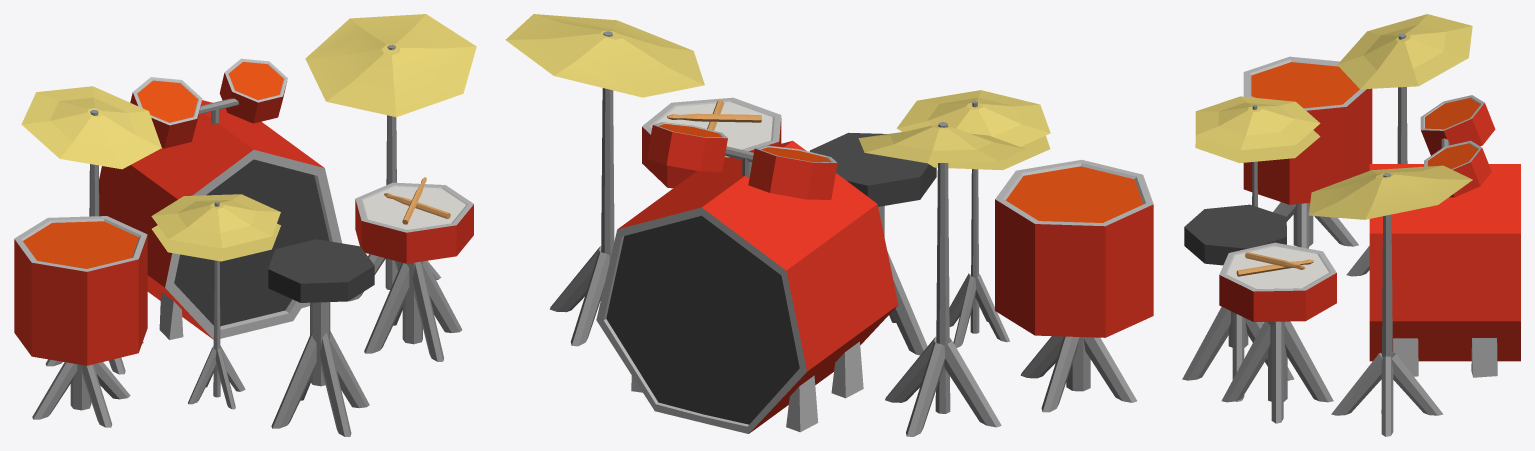
Rendered from drums.gltf.
3 views of the same model, side by side, from view 1: azimuth 30°, elevation 25°; view 2: azimuth 150°, elevation 25°; view 3: azimuth 270°, elevation 25° (orthographic). The views are drawn at different scales.
Parts seen in each view (by area): view 1: Cylinder, Cylinder.001, Cylinder.012, Cylinder.009, Cylinder.004, Cylinder.017, Cylinder.014, Cylinder.016, Cylinder.008, Cylinder.002, Cylinder.003, Cylinder.007 (+4 smaller); view 2: Cylinder, Cylinder.001, Cylinder.012, Cylinder.010, Cylinder.014, Cylinder.017, Cylinder.011, Cylinder.004, Cylinder.007, Cylinder.009, Cylinder.002, Cylinder.003 (+4 smaller); view 3: Cylinder, Cylinder.001, Cylinder.004, Cylinder.009, Cylinder.012, Cylinder.014, Cylinder.011, Cylinder.008, Cylinder.017, Cylinder.002, Cylinder.016, Cylinder.003 (+5 smaller).
Part boxes in pixels (x1,y1,x2,y2): Cylinder: (99,100,341,339); Cylinder.001: (14,216,147,365); Cylinder.012: (305,14,476,117); Cylinder.009: (21,86,161,169); Cylinder.004: (355,182,473,263); Cylinder.017: (268,239,374,302); Cylinder.014: (151,194,280,248); Cylinder.016: (271,302,369,436); Cylinder.008: (364,261,462,361); Cylinder.002: (130,77,202,148); Cylinder.003: (219,58,287,123); Cylinder.007: (32,362,130,427); Cylinder: (596,141,898,433); Cylinder.001: (995,159,1153,337); Cylinder.012: (505,14,704,97); Cylinder.010: (885,122,1001,436); Cylinder.014: (896,90,1050,146); Cylinder.017: (810,132,936,206); Cylinder.011: (549,31,614,346); Cylinder.004: (642,97,781,188); Cylinder.007: (1020,336,1136,412); Cylinder.009: (858,124,1026,163); Cylinder.002: (748,145,837,199); Cylinder.003: (647,122,727,171); Cylinder: (1369,164,1520,377); Cylinder.001: (1243,56,1372,204); Cylinder.004: (1219,242,1336,321); Cylinder.009: (1337,14,1472,89); Cylinder.012: (1308,165,1472,219); Cylinder.014: (1195,96,1320,150); Cylinder.011: (1331,173,1443,436); Cylinder.008: (1221,321,1333,423); Cylinder.017: (1184,204,1286,265); Cylinder.002: (1420,95,1495,155); Cylinder.016: (1182,307,1294,401); Cylinder.003: (1424,140,1491,197).
Size of the model in its own units: 5.31 by 2.93 by 3.27.
